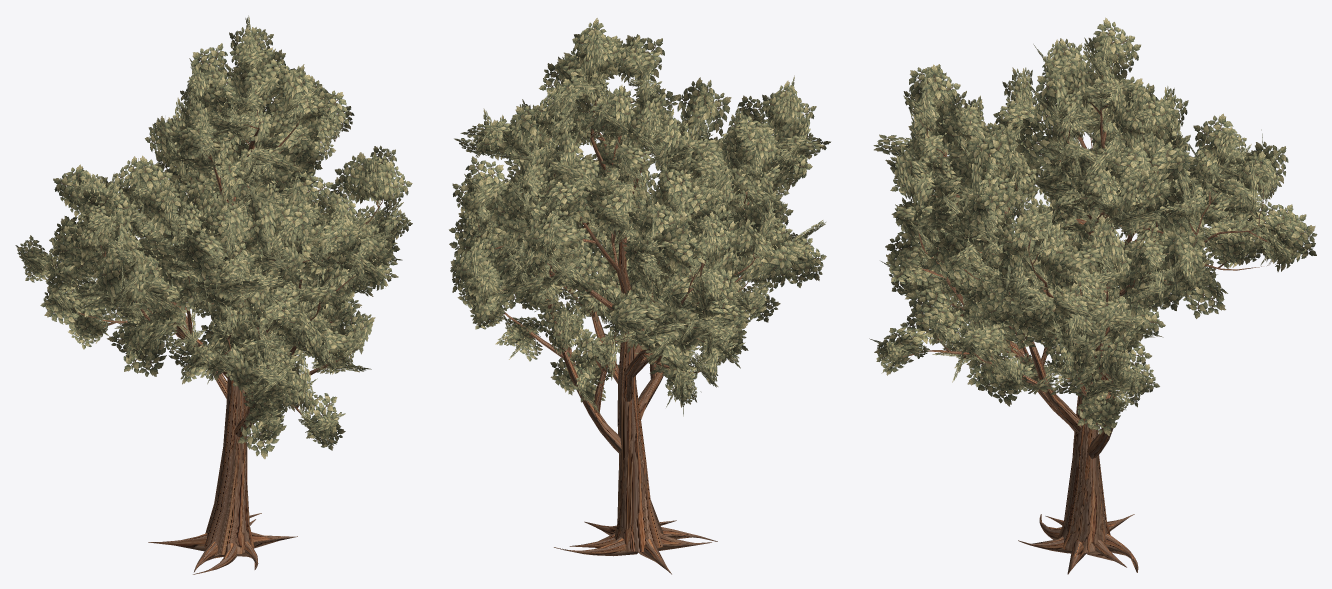
The model's file is tree5.glb.
The picture shows the model from 3 angles, left to right: view 1: azimuth 30°, elevation 25°; view 2: azimuth 150°, elevation 25°; view 3: azimuth 270°, elevation 25°; orthographic projection. The views are drawn at different scales.
Parts seen in each view (by area): view 1: Leaves_LOD0.004 (×2), Branches_LOD0.004 (×2); view 2: Leaves_LOD0.004 (×2), Branches_LOD0.004 (×2); view 3: Leaves_LOD0.004 (×2), Branches_LOD0.004 (×2).
Boxes of the visible parts, x1,y1,x2,y2 form: Leaves_LOD0.004 (×2): (15, 15, 412, 458); Branches_LOD0.004 (×2): (76, 105, 389, 574); Leaves_LOD0.004 (×2): (449, 18, 830, 416); Branches_LOD0.004 (×2): (477, 78, 783, 574); Leaves_LOD0.004 (×2): (869, 17, 1317, 435); Branches_LOD0.004 (×2): (902, 75, 1271, 574).
Size of the model in its own units: 29.13 by 44.38 by 32.92.
4 materials, 4 textured.
